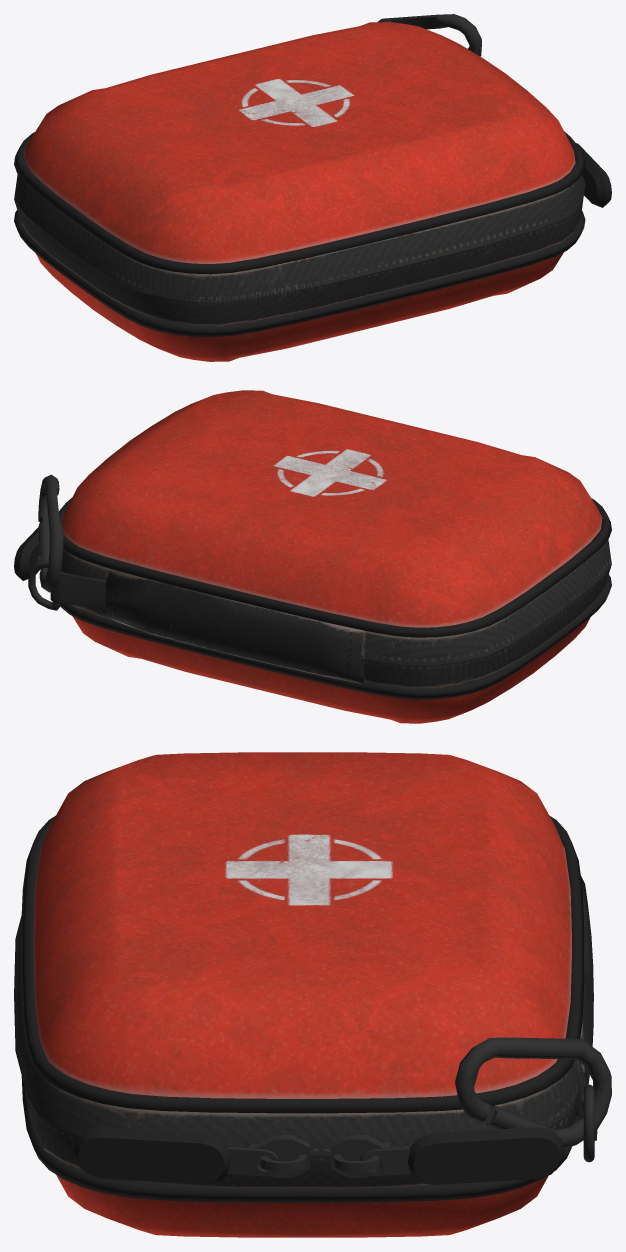
File: MedkitPickup.fbx
3 views of the same model, one above another, from view 1: azimuth 30°, elevation 25°; view 2: azimuth 150°, elevation 25°; view 3: azimuth 270°, elevation 25° (orthographic). The views are drawn at different scales.
Visible parts, largest first — view 1: medkit_LOD0, medkit_lock_LOD0, medkit_zipper1_LOD0; view 2: medkit_LOD0, medkit_lock_LOD0, medkit _zipper2_LOD0; view 3: medkit_LOD0, medkit_zipper1_LOD0, medkit _zipper2_LOD0, medkit_lock_LOD0.
Part boxes in pixels (bbox=[...]): medkit_LOD0: bbox=[14, 22, 585, 361]; medkit_lock_LOD0: bbox=[377, 14, 481, 56]; medkit_zipper1_LOD0: bbox=[576, 143, 611, 207]; medkit_LOD0: bbox=[28, 390, 611, 723]; medkit_lock_LOD0: bbox=[35, 474, 63, 592]; medkit _zipper2_LOD0: bbox=[14, 527, 40, 580]; medkit_LOD0: bbox=[14, 752, 597, 1237]; medkit_zipper1_LOD0: bbox=[73, 1127, 309, 1184]; medkit _zipper2_LOD0: bbox=[331, 1127, 565, 1184]; medkit_lock_LOD0: bbox=[455, 1037, 611, 1147].
Size of what is drawn, in the model's own units: 0.4406 by 0.1533 by 0.3342.
1 material, 1 textured.
